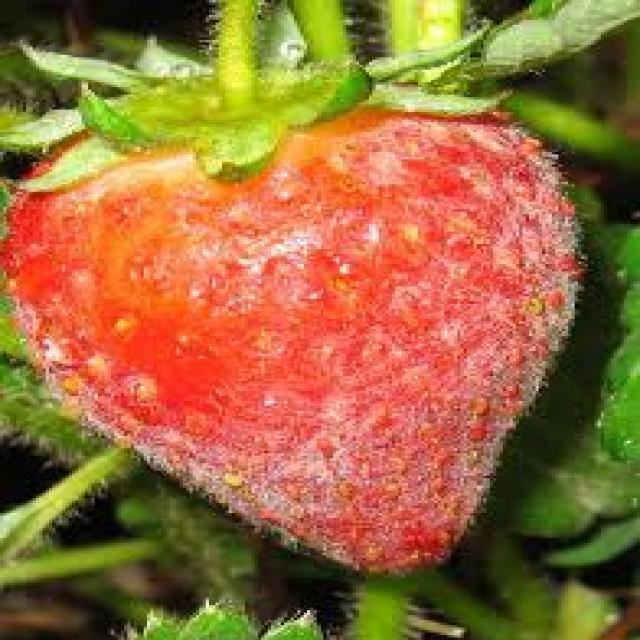Oído: (7, 79, 590, 576)
